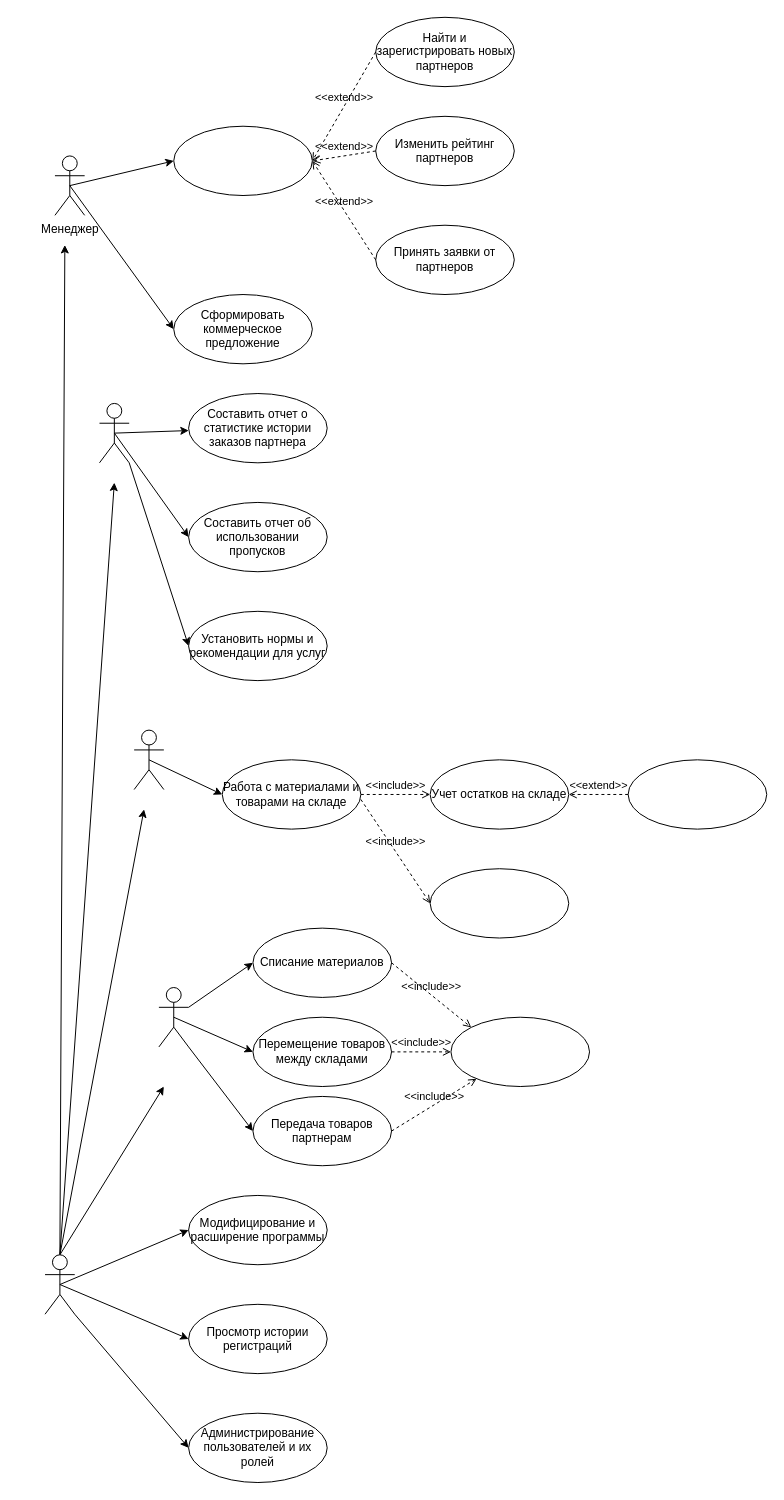
The diagram is 784 pixels wide and 1500 high, and some of its shapes have lost their labels. The centre of each missing label's shape, as x and y in pixels:
"Администратор системы" goes at (59,1284).
"Аналитик" goes at (114,432).
"Ведение учета" goes at (520,1051).
"Заказ товаров у поставщиков" goes at (697,794).
"Прием готовых работ" goes at (499,903).
"Работа с партнерами" goes at (242,160).
"Сотрудник (складской работник)" goes at (173,1017).
"Технолог" goes at (148,759).
